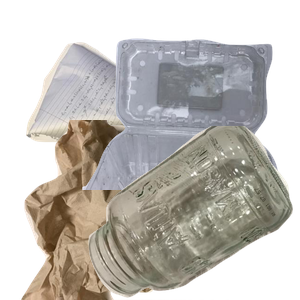glass: (86, 126, 300, 300)
paper: (23, 40, 223, 180)
plastic: (80, 36, 300, 216)
trash: (19, 120, 249, 300)
